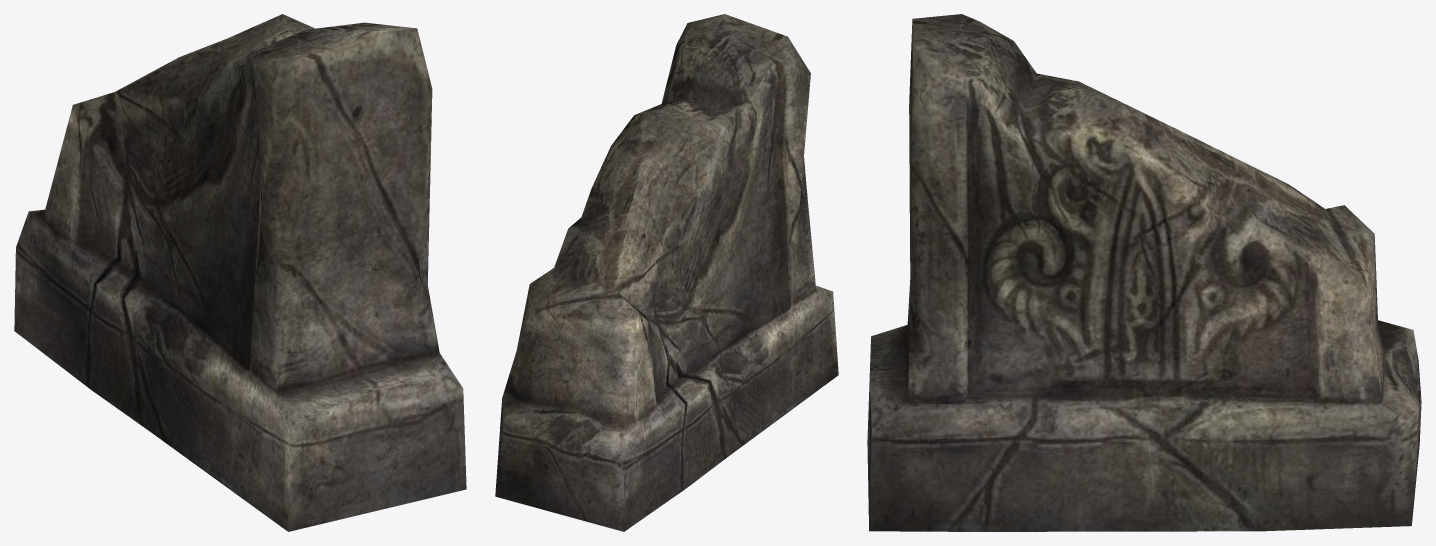
The model's file is gravestone_broken_slab.gltf.
3 renders of one model, left to right at view 1: azimuth 30°, elevation 25°; view 2: azimuth 150°, elevation 25°; view 3: azimuth 270°, elevation 25°, orthographic. The views are drawn at different scales.
Parts seen in each view (by area): view 1: gravestone_broken_slab; view 2: gravestone_broken_slab; view 3: gravestone_broken_slab.
Part boxes in pixels (box(x1,y1,x2,y2)): gravestone_broken_slab: box(14, 14, 466, 531); gravestone_broken_slab: box(495, 14, 838, 531); gravestone_broken_slab: box(867, 14, 1421, 531).
Size of the model in its own units: 0.4486 by 1.07 by 1.18.
Materials: 1 (1 with a texture image).
